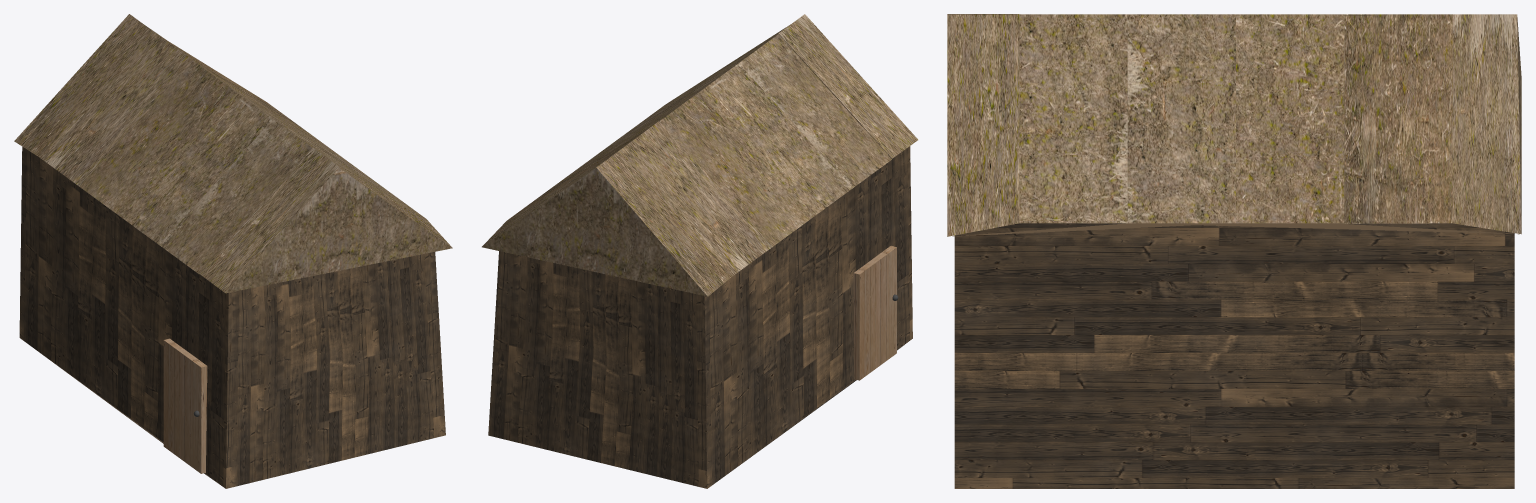
3 views of the same model, side by side, from view 1: azimuth 30°, elevation 25°; view 2: azimuth 150°, elevation 25°; view 3: azimuth 270°, elevation 25° (orthographic). The views are drawn at different scales.
Parts seen in each view (by area): view 1: Cube; view 2: Cube; view 3: Cube.
Boxes of the visible parts, x1,y1,x2,y2 form: Cube: [14, 14, 452, 488]; Cube: [482, 14, 917, 488]; Cube: [947, 14, 1521, 488].
Size of the model in its own units: 1227 by 1501 by 1930.
4 materials, 3 textured.
